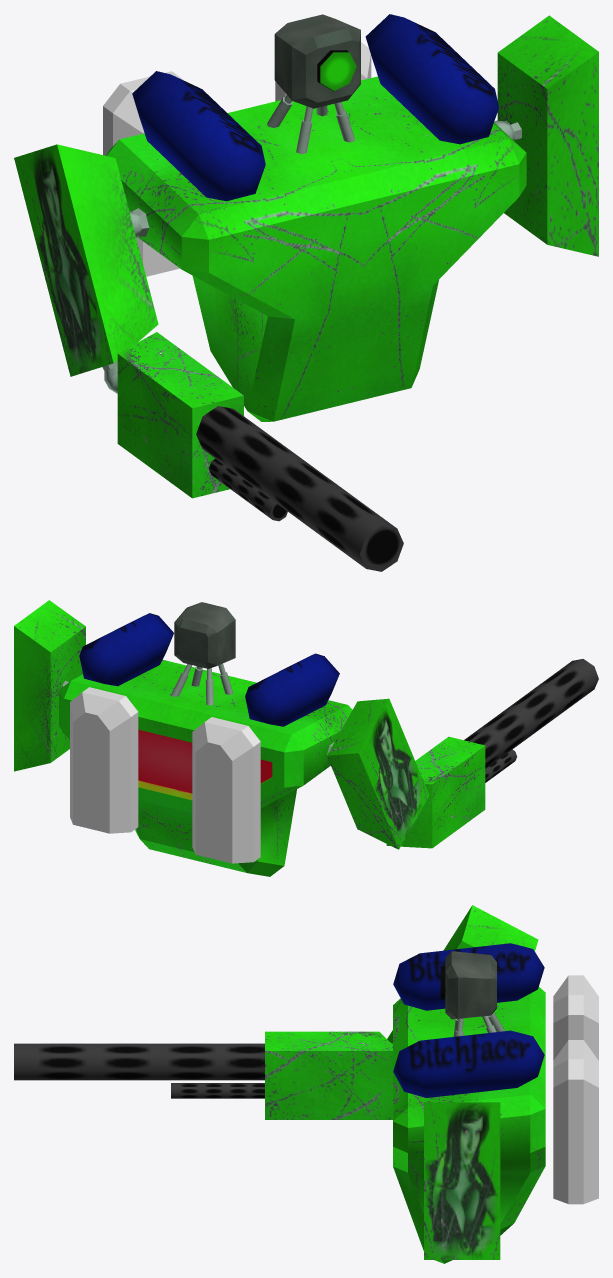
The model's file is Shot_bot.FBX.
3 views of the same model, one above another, from view 1: azimuth 30°, elevation 25°; view 2: azimuth 150°, elevation 25°; view 3: azimuth 270°, elevation 25° (orthographic). The views are drawn at different scales.
Parts seen in each view (by area): view 1: Body, Jetpack; view 2: Body, Jetpack001, Jetpack; view 3: Body, Jetpack001, Jetpack.
Boxes of the visible parts, box(x1,y1,x2,y2) form: Body: box(14, 14, 598, 571); Jetpack: box(103, 71, 184, 276); Body: box(14, 600, 598, 876); Jetpack001: box(70, 687, 138, 833); Jetpack: box(192, 717, 260, 863); Body: box(14, 905, 545, 1263); Jetpack001: box(553, 1040, 598, 1204); Jetpack: box(553, 975, 598, 1060).
Size of the model in its own units: 296 by 204 by 383.
Materials: 1 (1 with a texture image).
